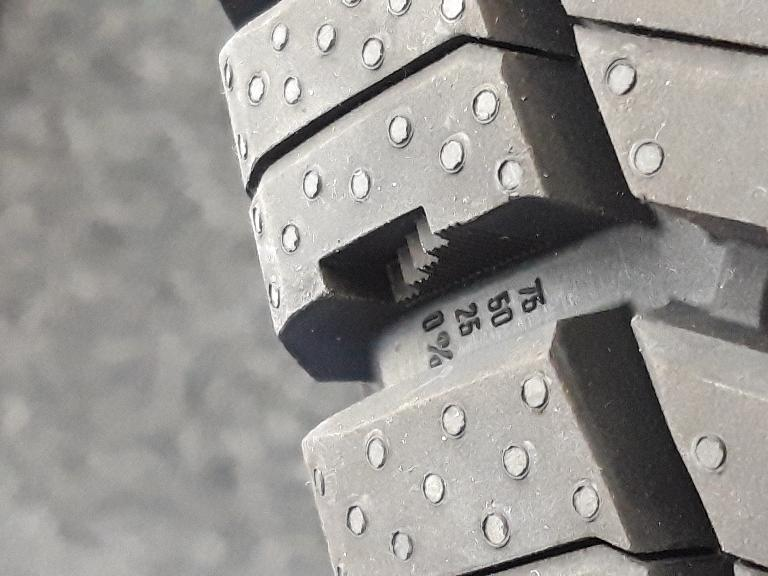temoin:100: (318, 202, 494, 312)
